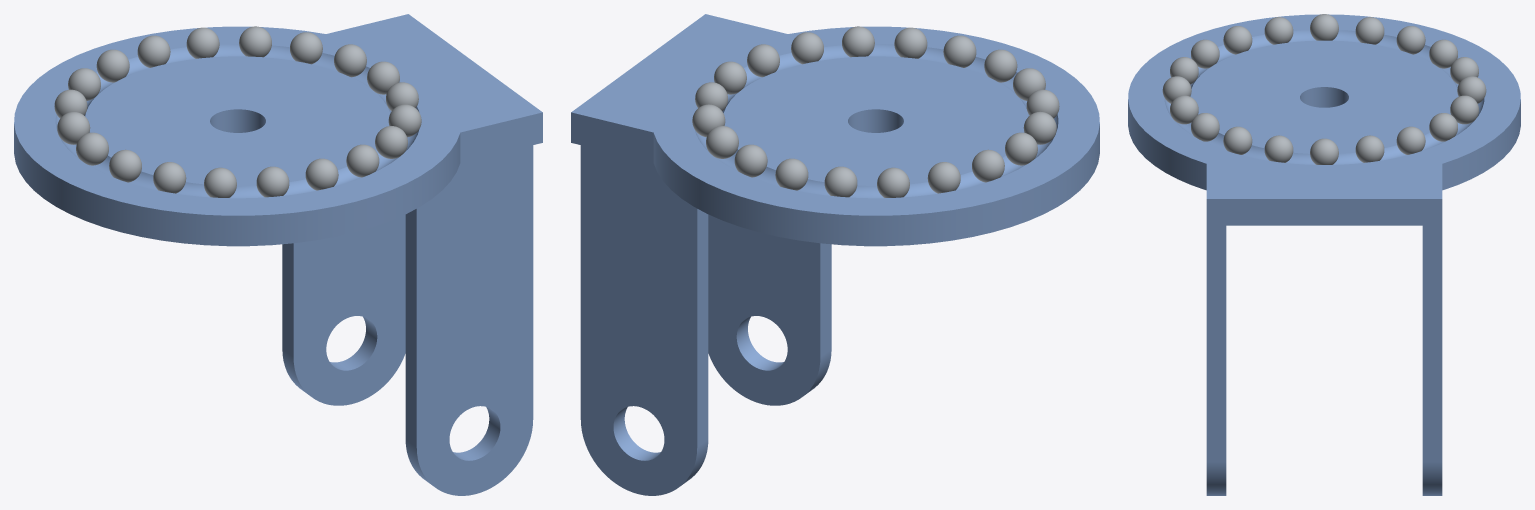
Rendered from step_18.glb.
The picture shows the model from 3 angles, left to right: view 1: azimuth 30°, elevation 25°; view 2: azimuth 150°, elevation 25°; view 3: azimuth 270°, elevation 25°; orthographic projection. The views are drawn at different scales.
Visible parts, largest first — view 1: part__fork, part__ball 18, part__ball 11, part__ball 7, part__ball 17, part__ball 2, part__ball 6, part__ball 12, part__ball 16, part__ball 5, part__ball 3, part__ball 13 (+9 smaller); view 2: part__fork, part__ball 4, part__ball 11, part__ball 15, part__ball 5, part__ball 20, part__ball 16, part__ball 10, part__ball 6, part__ball 17, part__ball 19, part__ball 9 (+9 smaller); view 3: part__fork, part__ball 4, part__ball 18, part__ball 5, part__ball 9, part__ball 13, part__ball 17, part__ball 8, part__ball 14, part__ball 3, part__ball 19, part__ball 10 (+9 smaller).
Part boxes in pixels (<box>): part__fork: <box>14,14,542,495</box>; part__ball 18: <box>375,126,407,158</box>; part__ball 11: <box>76,132,108,165</box>; part__ball 7: <box>96,49,129,82</box>; part__ball 17: <box>346,144,379,177</box>; part__ball 2: <box>334,44,366,77</box>; part__ball 6: <box>137,35,170,67</box>; part__ball 12: <box>109,149,141,182</box>; part__ball 16: <box>305,158,338,190</box>; part__ball 5: <box>186,27,219,58</box>; part__ball 3: <box>290,32,322,64</box>; part__ball 13: <box>153,162,186,193</box>; part__fork: <box>571,14,1099,495</box>; part__ball 4: <box>706,126,738,158</box>; part__ball 11: <box>1005,132,1037,165</box>; part__ball 15: <box>984,49,1017,82</box>; part__ball 5: <box>734,144,767,177</box>; part__ball 20: <box>747,44,779,77</box>; part__ball 16: <box>943,35,976,67</box>; part__ball 10: <box>972,149,1004,182</box>; part__ball 6: <box>775,158,808,190</box>; part__ball 17: <box>894,27,927,58</box>; part__ball 19: <box>791,32,823,64</box>; part__ball 9: <box>927,162,960,193</box>; part__fork: <box>1128,14,1520,495</box>; part__ball 4: <box>1429,113,1457,141</box>; part__ball 18: <box>1191,113,1219,141</box>; part__ball 5: <box>1450,95,1478,124</box>; part__ball 9: <box>1396,26,1425,54</box>; part__ball 13: <box>1223,26,1252,54</box>; part__ball 17: <box>1170,95,1198,124</box>; part__ball 8: <box>1429,39,1457,68</box>; part__ball 14: <box>1191,39,1219,68</box>; part__ball 3: <box>1396,126,1425,154</box>; part__ball 19: <box>1223,126,1252,154</box>; part__ball 10: <box>1355,17,1384,44</box>.
Size of the model in its own units: 89 by 76.45 by 79.97.
